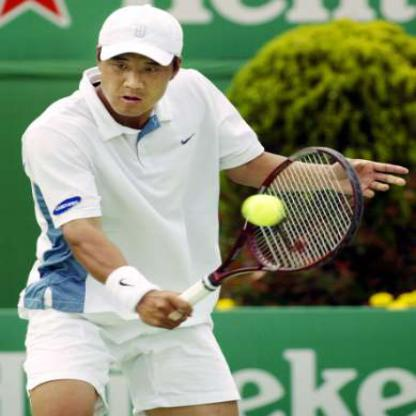face: (103, 14, 175, 118)
